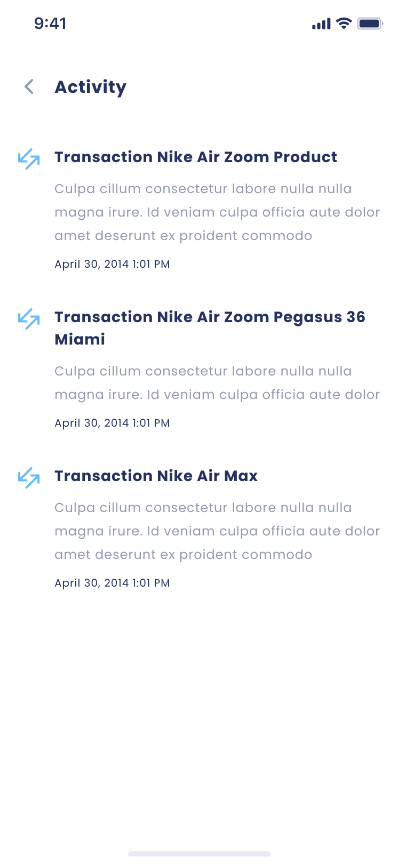AppBar: (1, 32, 396, 104)
